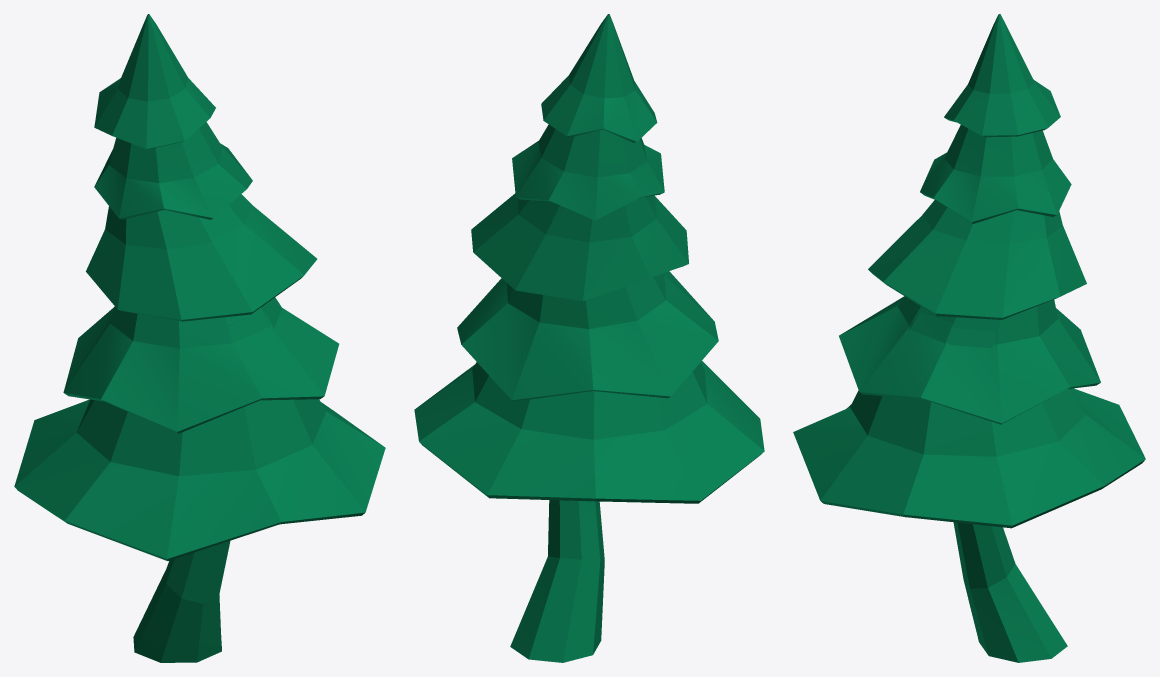
File: pine.fbx
3 renders of one model, left to right at view 1: azimuth 30°, elevation 25°; view 2: azimuth 150°, elevation 25°; view 3: azimuth 270°, elevation 25°, orthographic. The views are drawn at different scales.
Visible parts, largest first — view 1: PineTree; view 2: PineTree; view 3: PineTree.
Part boxes in pixels (box(x1,y1,x2,y2)): PineTree: box(14, 14, 385, 662); PineTree: box(414, 14, 764, 662); PineTree: box(793, 14, 1145, 662).
Size of the model in its own units: 99.24 by 195 by 102.
